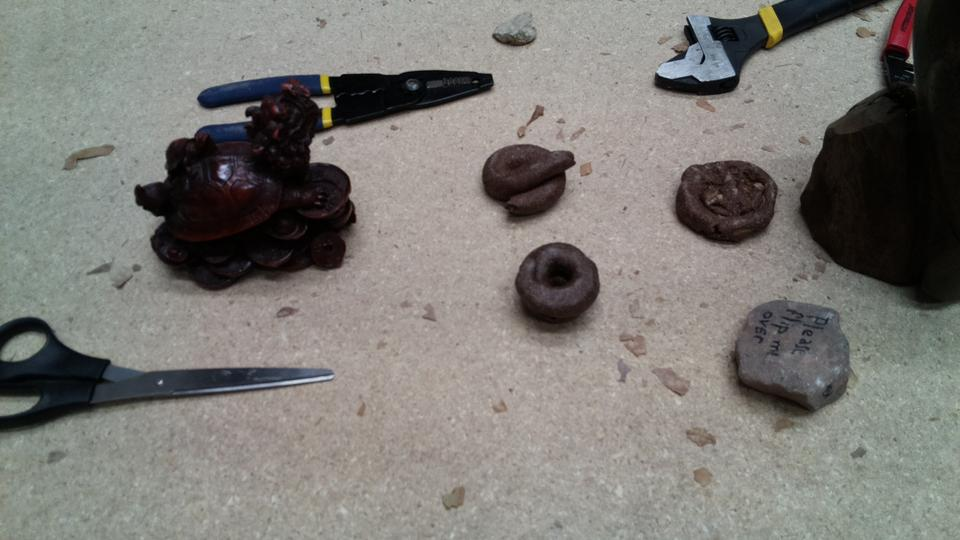poop: (673, 157, 779, 248), (513, 241, 601, 327), (479, 141, 577, 217)
